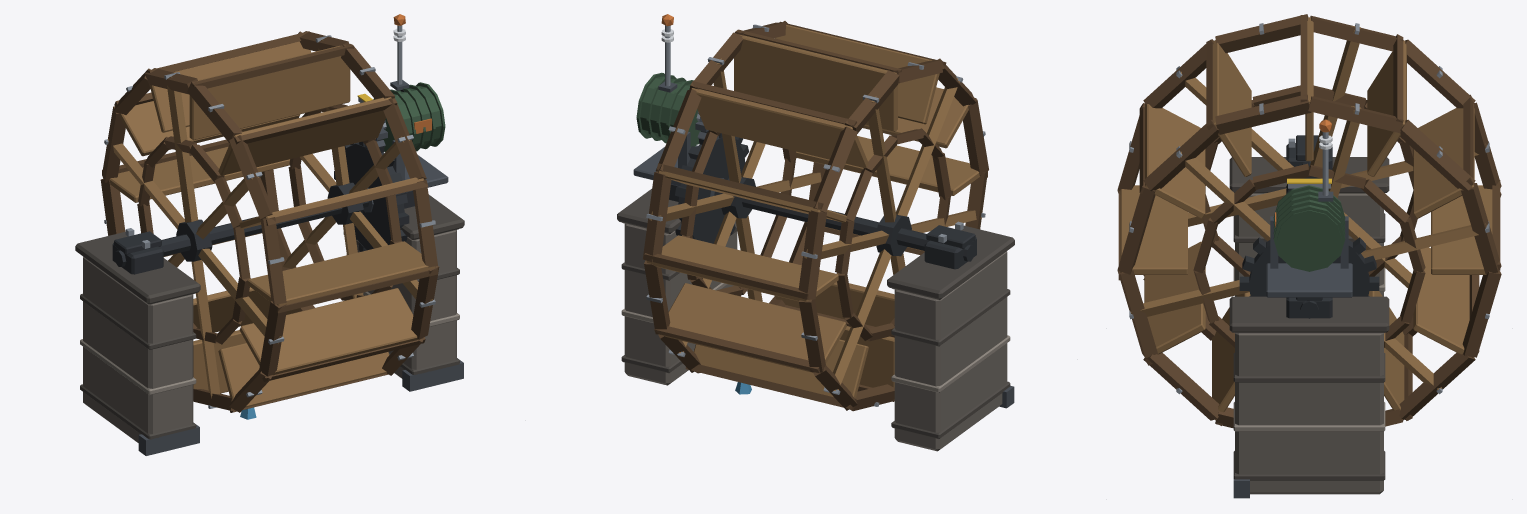
Rendered from roue_a_aubes.glb.
The picture shows the model from 3 angles, left to right: view 1: azimuth 30°, elevation 25°; view 2: azimuth 150°, elevation 25°; view 3: azimuth 270°, elevation 25°; orthographic projection. The views are drawn at different scales.
Parts seen in each view (by area): view 1: roue_bois.002, roue_bois_sombre.002, pieces_pierre.002, pieces_pierre_sombre.006, roue_fonte.002, pieces_acier_sombre.016, pieces_fonte.012, generatrice.002, pieces_vert_fonce.006, pieces_pierre_claire.002, roue_acier.002; view 2: roue_bois.002, roue_bois_sombre.002, pieces_pierre.002, pieces_pierre_sombre.006, roue_fonte.002, pieces_fonte.012, generatrice.002, pieces_vert_fonce.006, pieces_acier_sombre.016, pieces_pierre_claire.002, roue_acier.002; view 3: roue_bois.002, roue_bois_sombre.002, pieces_pierre.002, pieces_pierre_sombre.006, pieces_acier_sombre.016, generatrice.002, roue_fonte.002, pieces_vert_fonce.006, pieces_pierre_claire.002, pieces_fonte.012, roue_acier.002, pieces_acier.018.
Part boxes in pixels (<box>): roue_bois.002: <box>107,39,435,407</box>; roue_bois_sombre.002: <box>100,31,439,412</box>; pieces_pierre.002: <box>83,230,456,442</box>; pieces_pierre_sombre.006: <box>75,194,464,439</box>; roue_fonte.002: <box>114,141,409,266</box>; pieces_acier_sombre.016: <box>138,80,463,455</box>; pieces_fonte.012: <box>112,191,414,274</box>; generatrice.002: <box>374,86,441,152</box>; pieces_vert_fonce.006: <box>373,82,445,151</box>; pieces_pierre_claire.002: <box>80,229,459,395</box>; roue_acier.002: <box>104,35,435,408</box>; roue_bois.002: <box>646,25,981,397</box>; roue_bois_sombre.002: <box>643,21,988,411</box>; pieces_pierre.002: <box>624,221,1007,451</box>; pieces_pierre_sombre.006: <box>617,189,1014,438</box>; roue_fonte.002: <box>675,133,975,261</box>; pieces_fonte.012: <box>669,184,976,269</box>; generatrice.002: <box>640,76,700,145</box>; pieces_vert_fonce.006: <box>636,72,695,147</box>; pieces_acier_sombre.016: <box>633,81,1014,408</box>; pieces_pierre_claire.002: <box>621,222,1010,392</box>; roue_acier.002: <box>646,24,985,406</box>; roue_bois.002: <box>1120,17,1498,420</box>; roue_bois_sombre.002: <box>1117,14,1501,428</box>; pieces_pierre.002: <box>1235,194,1383,494</box>; pieces_pierre_sombre.006: <box>1229,157,1389,480</box>; pieces_acier_sombre.016: <box>1233,191,1352,498</box>; generatrice.002: <box>1277,189,1341,269</box>; roue_fonte.002: <box>1239,161,1379,318</box>; pieces_vert_fonce.006: <box>1273,185,1345,271</box>; pieces_pierre_claire.002: <box>1233,193,1385,431</box>; pieces_fonte.012: <box>1286,135,1332,318</box>; roue_acier.002: <box>1129,23,1489,394</box>; pieces_acier.018: <box>1288,132,1330,195</box>.
Bounding box in the file's own units: 1.5 × 1.5 × 1.5.
